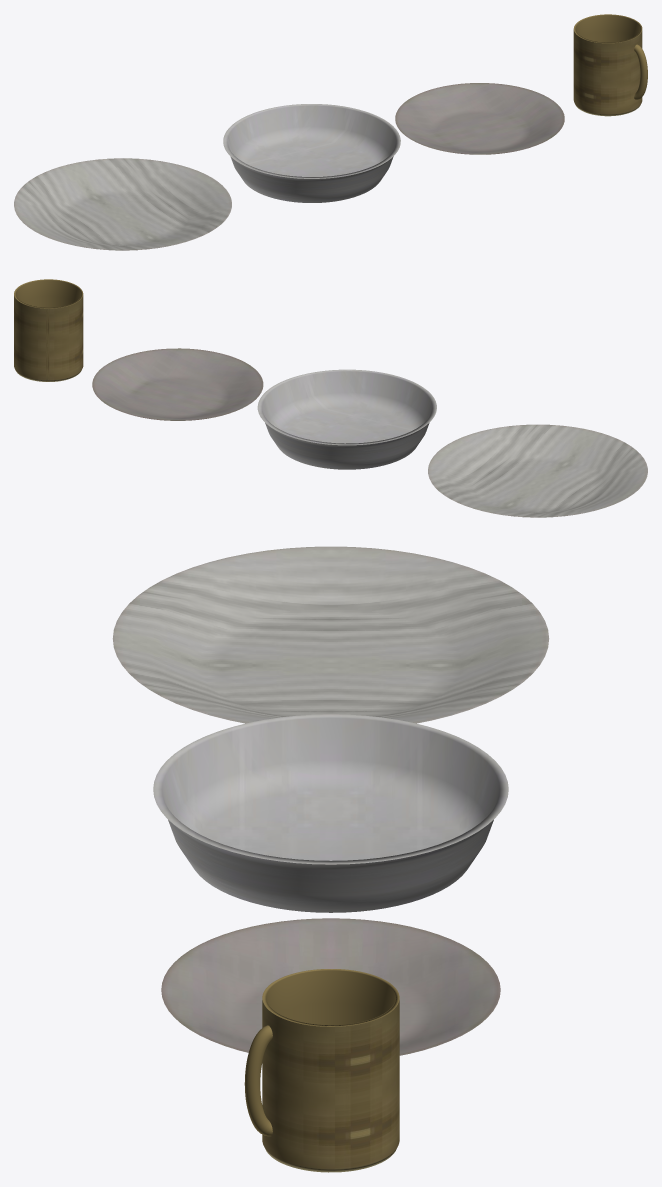
File: BLC-08.glb
3 views of the same model, one above another, from view 1: azimuth 30°, elevation 25°; view 2: azimuth 150°, elevation 25°; view 3: azimuth 270°, elevation 25° (orthographic). The views are drawn at different scales.
Size of the model in its own units: 0.8705 by 0.1 by 0.27.
9 materials, 7 textured.
